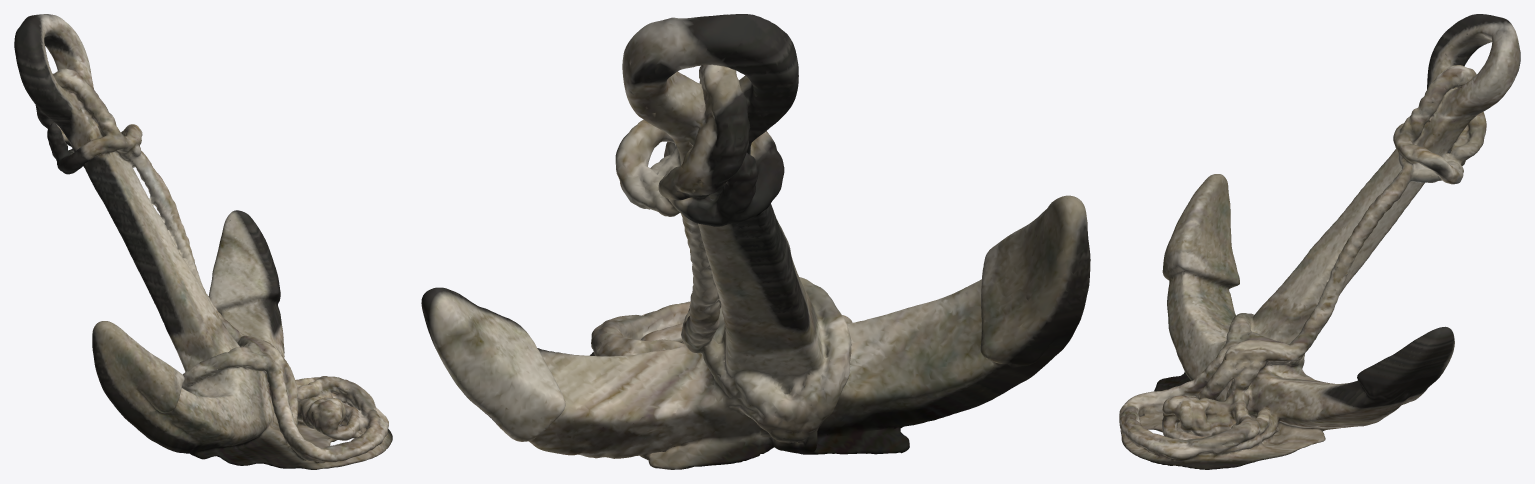
Rendered from anchor-of-the-soul.glb.
3 renders of one model, left to right at view 1: azimuth 30°, elevation 25°; view 2: azimuth 150°, elevation 25°; view 3: azimuth 270°, elevation 25°, orthographic. The views are drawn at different scales.
Size of the model in its own units: 1.25 by 1.46 by 1.5.
